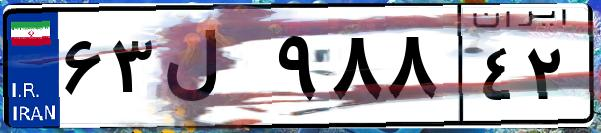2: (525, 38, 570, 115)
3: (110, 28, 158, 98)
4: (475, 38, 525, 113)
6: (57, 26, 110, 100)
8: (385, 28, 445, 110), (330, 28, 385, 110)
9: (270, 28, 330, 110)
ل: (158, 20, 270, 120)
